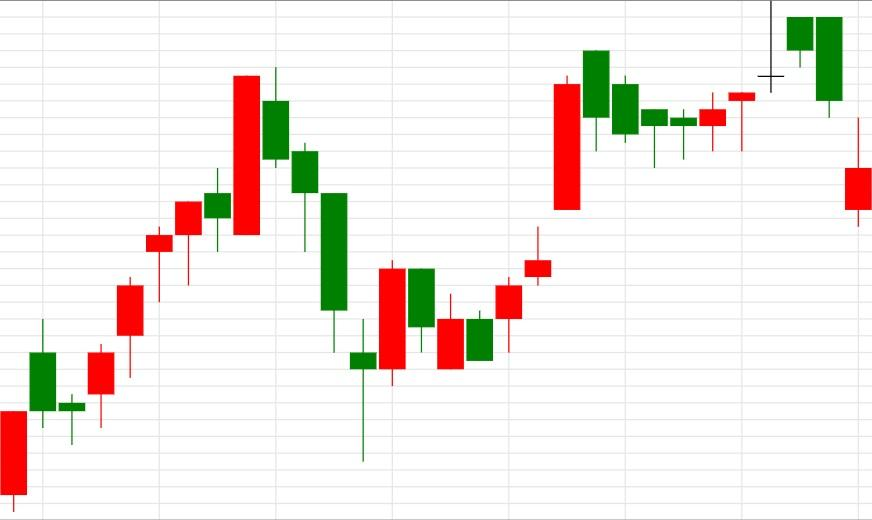three_black_crows_fall: (58, 67, 349, 444)
